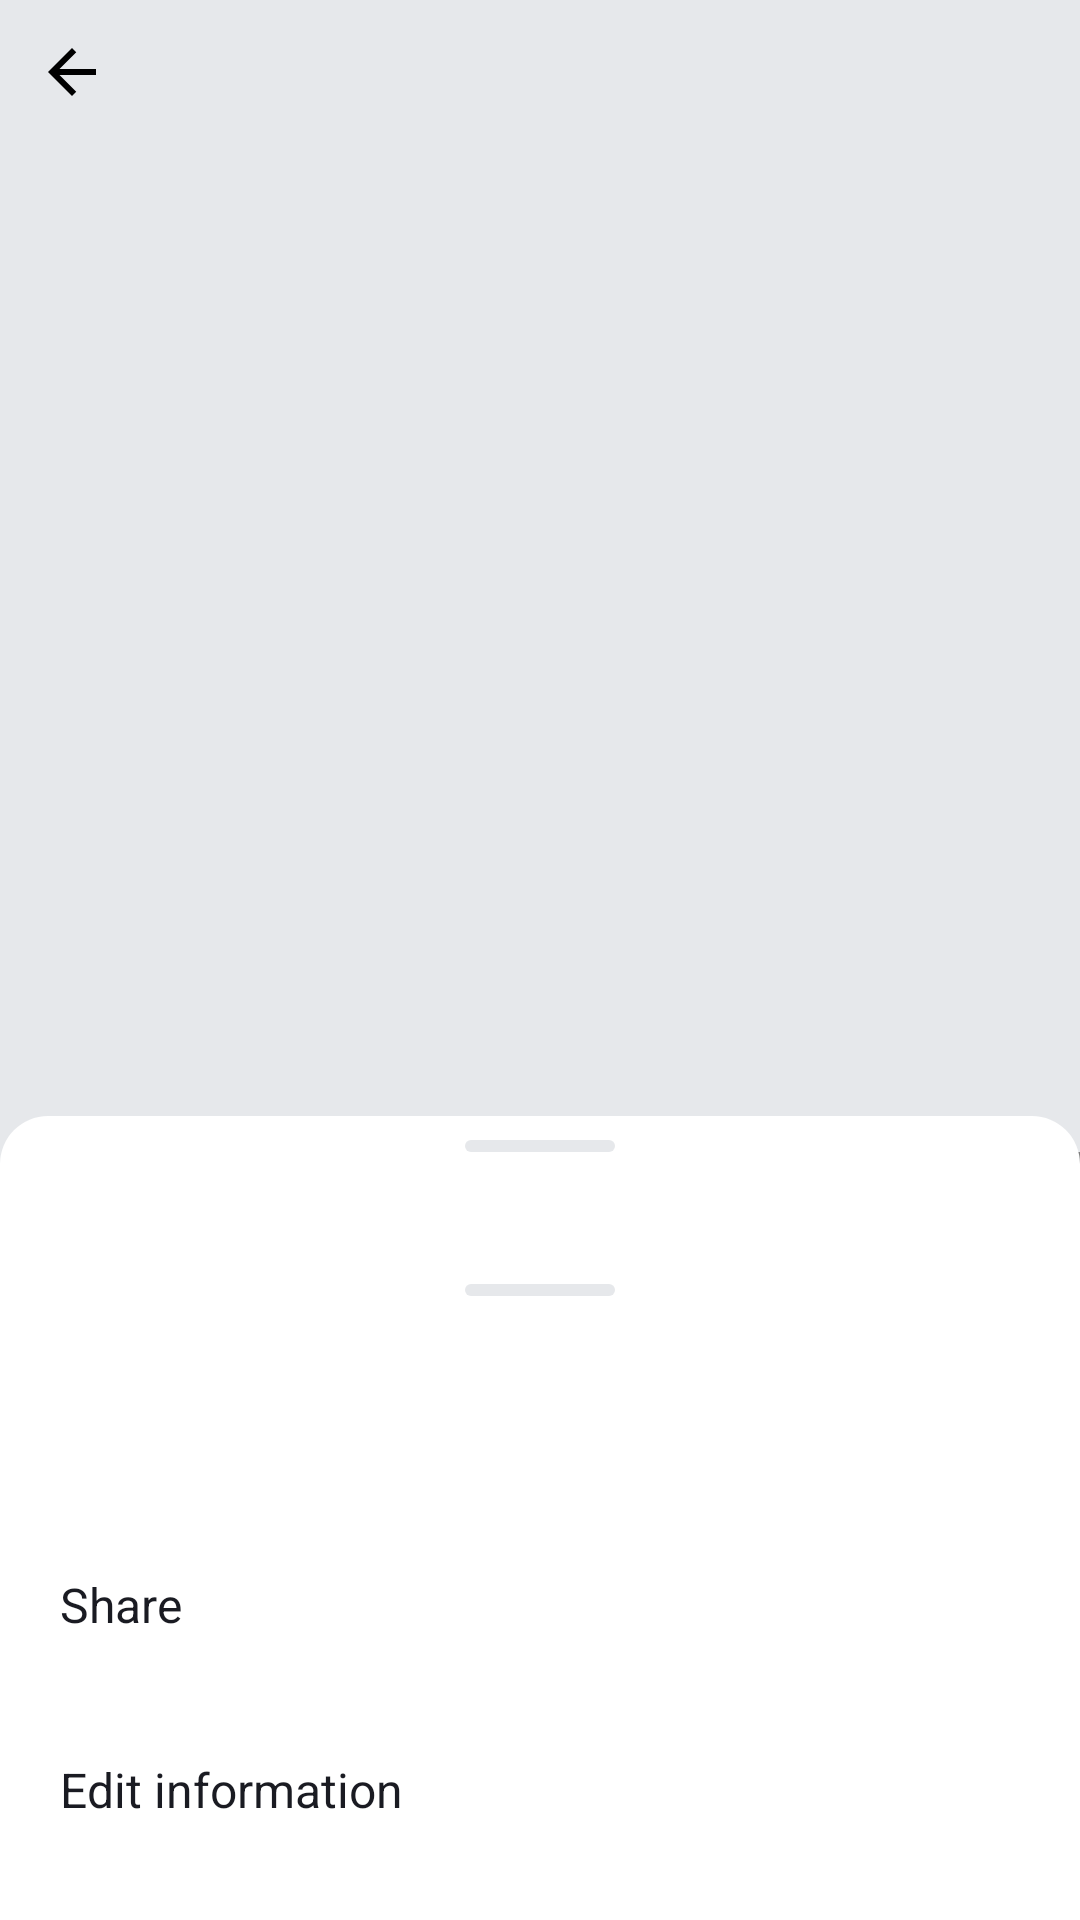

Point at icon controls on the screen. Image size 1080px x 1920px, points as (x,y).
back: (72,72)
